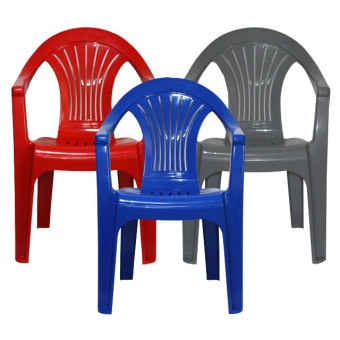plastic: (97, 76, 244, 315)
